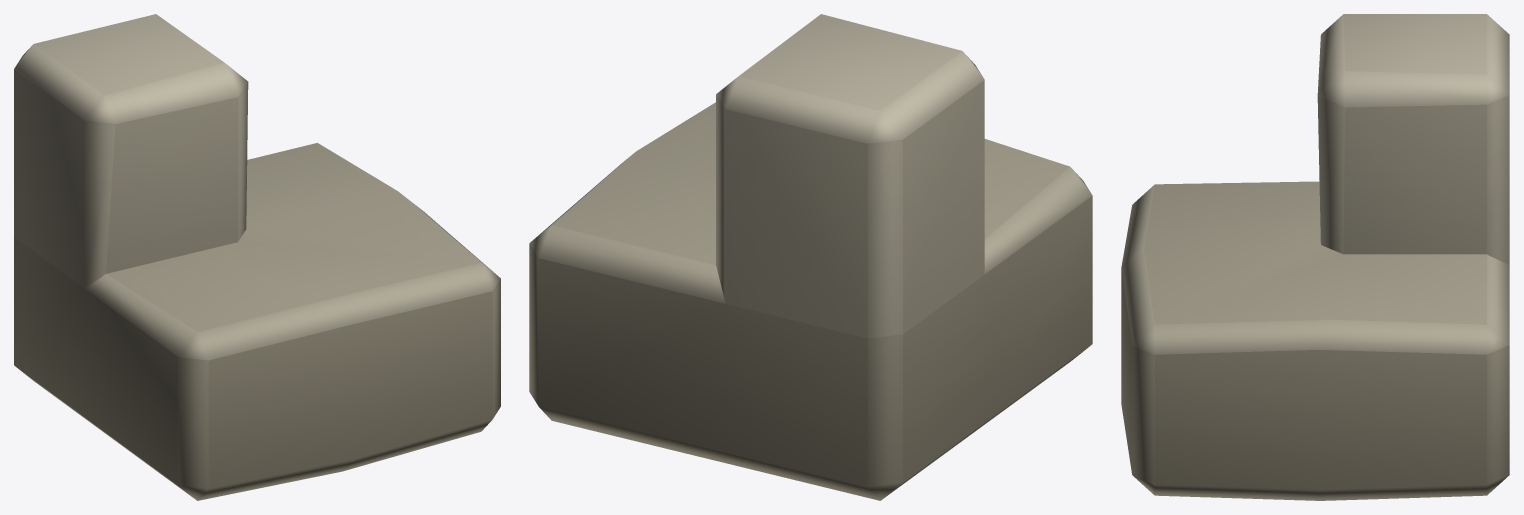
File: orc_stair_corner_conv_shade_2.fbx
3 views of the same model, side by side, from view 1: azimuth 30°, elevation 25°; view 2: azimuth 150°, elevation 25°; view 3: azimuth 270°, elevation 25° (orthographic). The views are drawn at different scales.
Visible parts, largest first — view 1: orc_stair_corner_conv_shade_2; view 2: orc_stair_corner_conv_shade_2; view 3: orc_stair_corner_conv_shade_2.
Part boxes in pixels (box(x1,y1,x2,y2)): orc_stair_corner_conv_shade_2: box(14, 14, 500, 500); orc_stair_corner_conv_shade_2: box(529, 14, 1092, 500); orc_stair_corner_conv_shade_2: box(1121, 14, 1509, 500).
Bounding box in the file's own units: 50.88 × 50.69 × 51.43.
